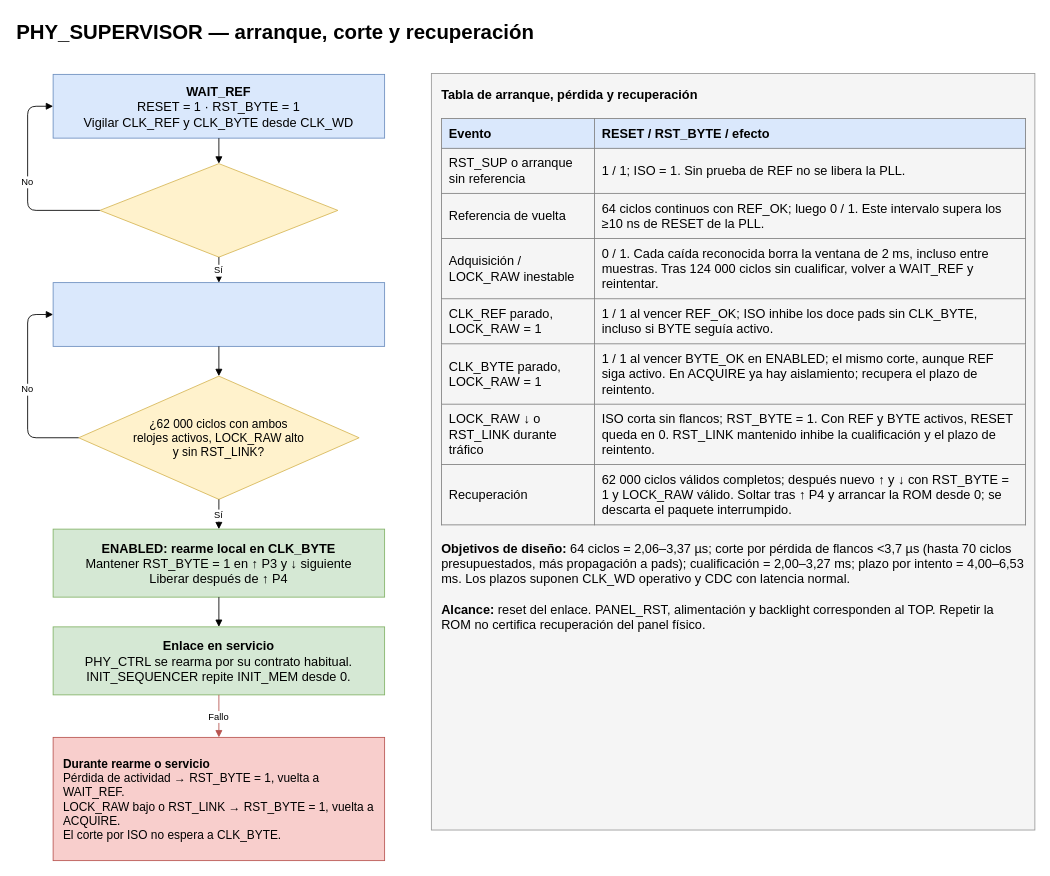
Some shapes in this 1050 by 876 pixel diagram are drawn without their labels. Each missing label, with the centre of its shape:
ACQUIRE RESET = 0 · RST_BYTE = 1 Exigir pruebas frescas de CLK_BYTE: the point at 218,314
¿REF_OK durante 64 ciclos de CLK_WD?: the point at 218,210
